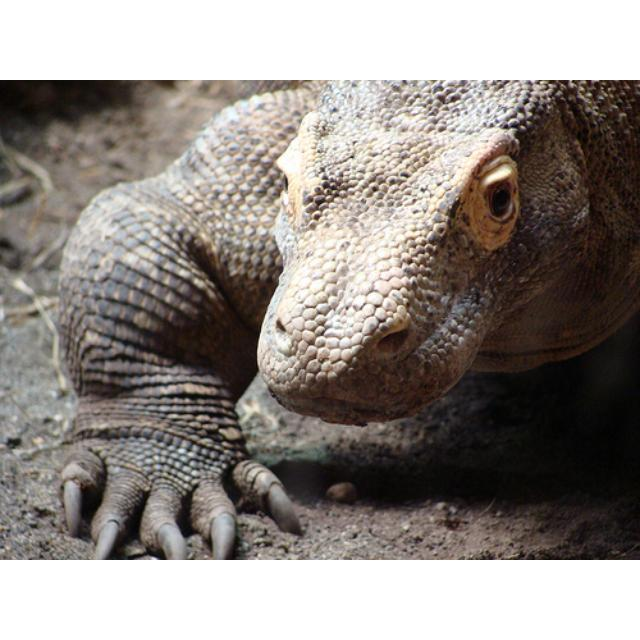KomodoDragon: (19, 81, 638, 558)
